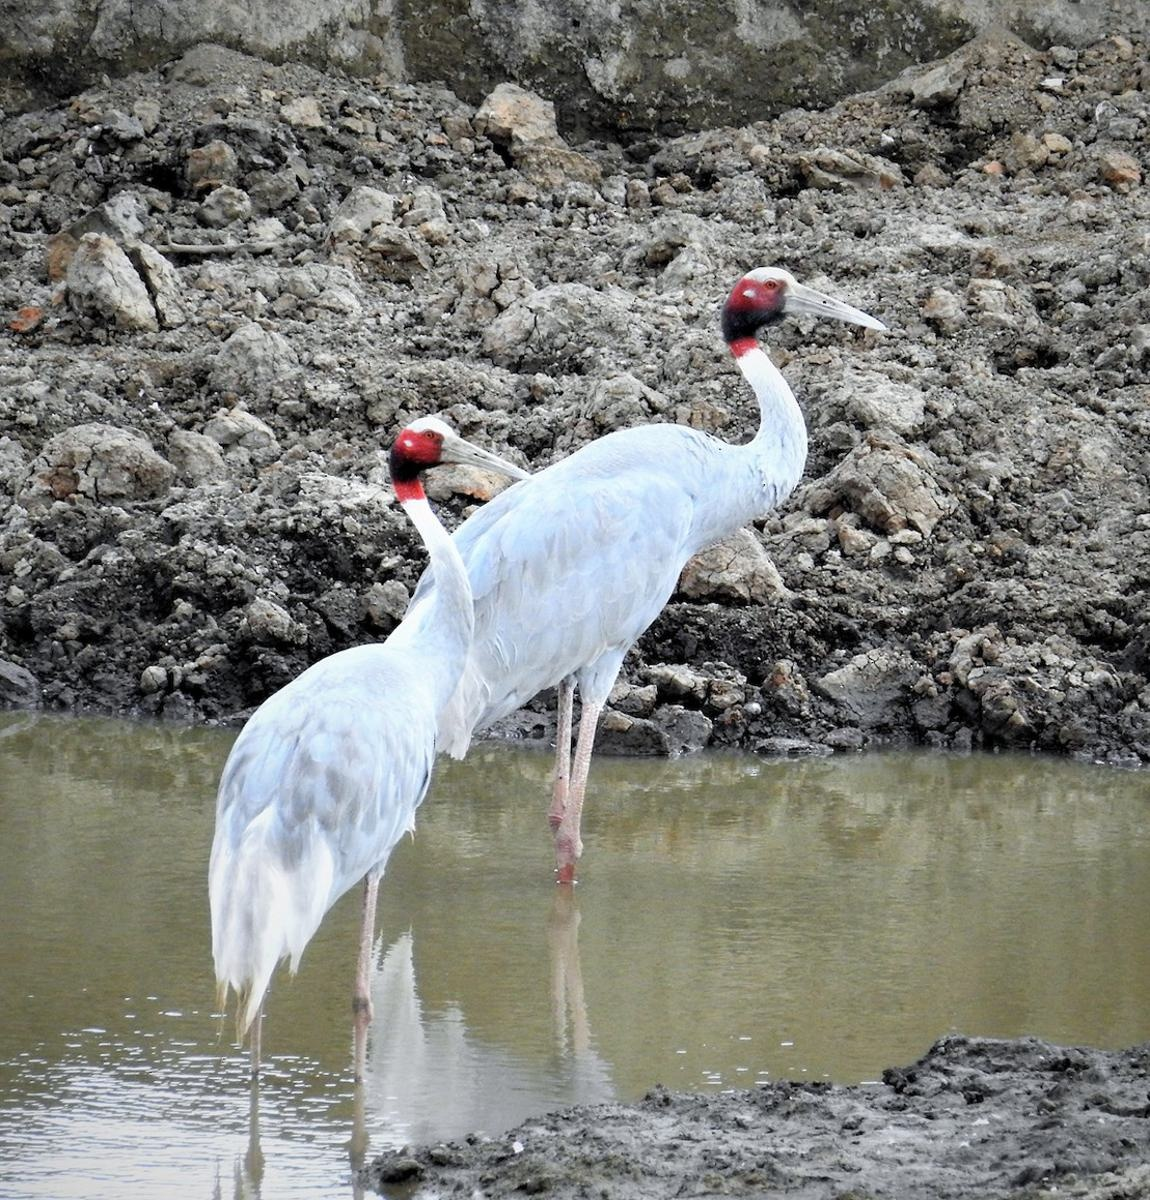crane: (404, 264, 888, 980), (197, 414, 543, 1125)
